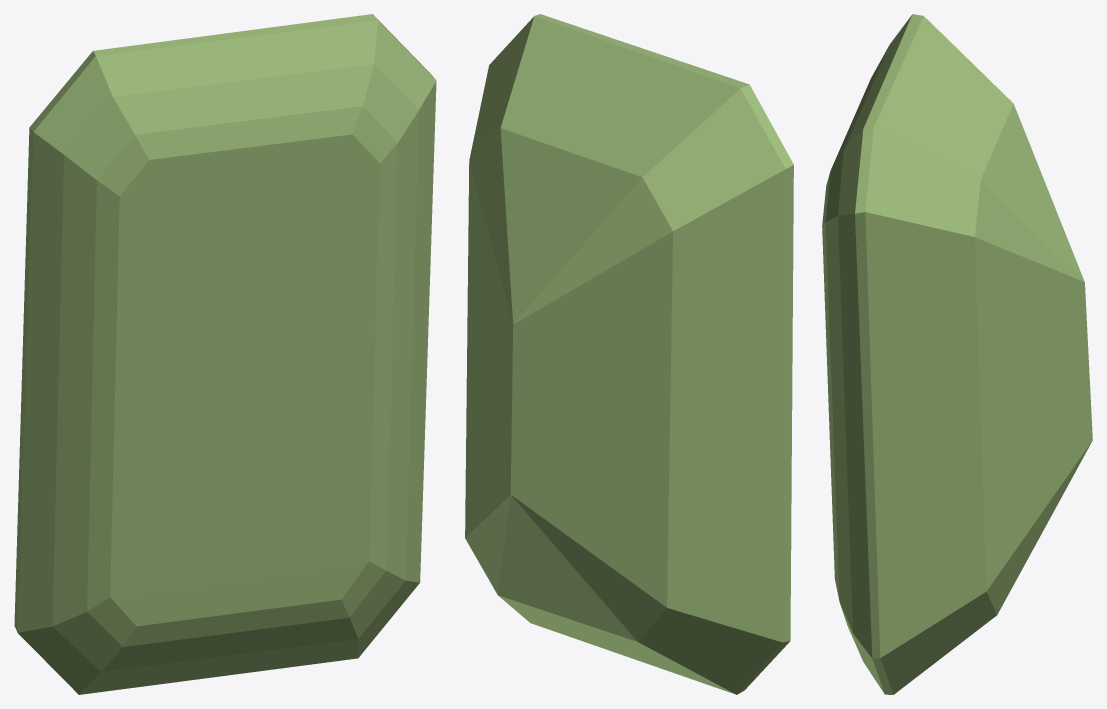
File: TL1_8shapes_Emerald_Classic_Stone.001 3.glb
3 views of the same model, side by side, from view 1: azimuth 30°, elevation 25°; view 2: azimuth 150°, elevation 25°; view 3: azimuth 270°, elevation 25° (orthographic). The views are drawn at different scales.
Parts seen in each view (by area): view 1: TL1_8shapes_Emerald_Classic_Stone.001; view 2: TL1_8shapes_Emerald_Classic_Stone.001; view 3: TL1_8shapes_Emerald_Classic_Stone.001.
Part boxes in pixels (x1,y1,x2,y2): TL1_8shapes_Emerald_Classic_Stone.001: [14, 14, 436, 694]; TL1_8shapes_Emerald_Classic_Stone.001: [465, 14, 793, 694]; TL1_8shapes_Emerald_Classic_Stone.001: [822, 14, 1092, 694].
Size of the model in its own units: 0.4112 by 0.692 by 0.2956.
